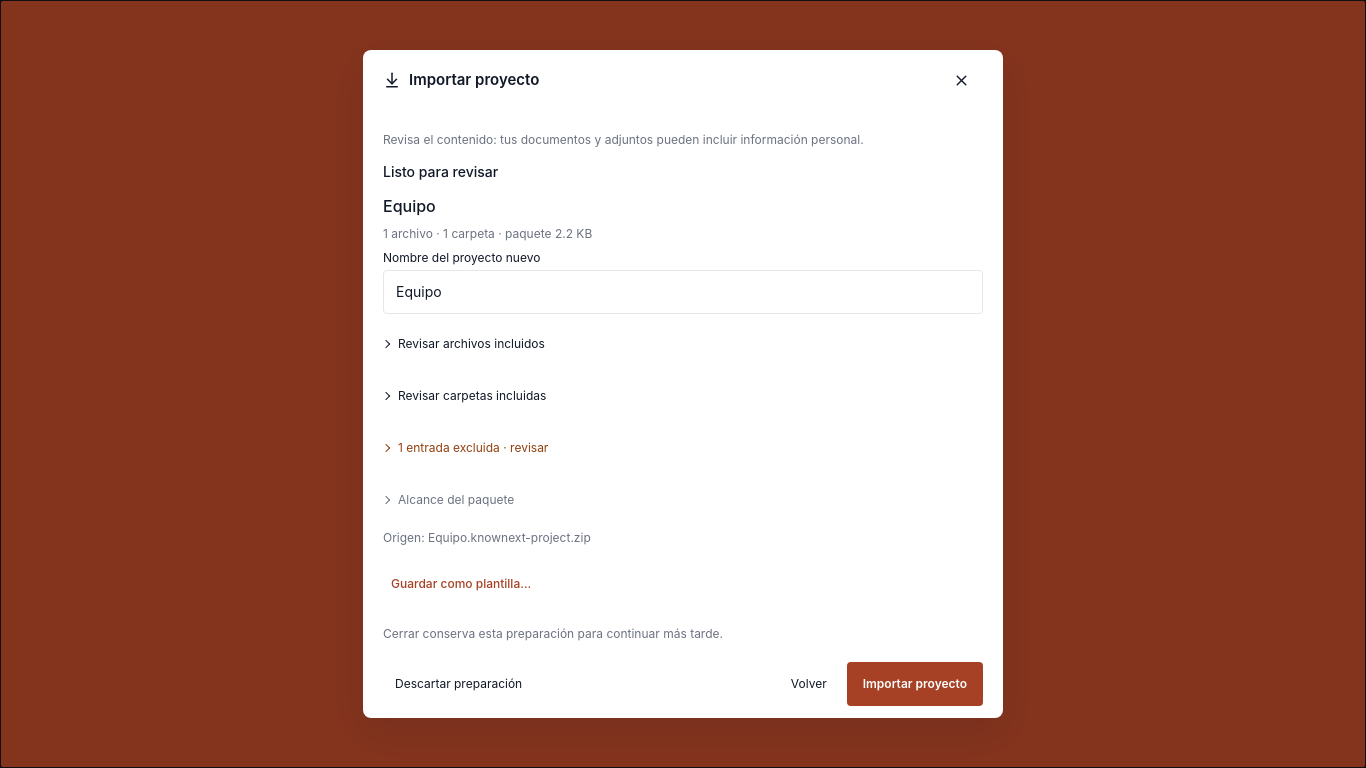
it: adopts only the expected backup recovery even when another transfer is listed first
This screenshot has width=1366, height=768.
Expected: the field labelled "Nombre del proyecto nuevo" holds "Equipo", [383,270,983,314]
Click the button "Importar proyecto" at (915, 684), box [847,662,983,706]
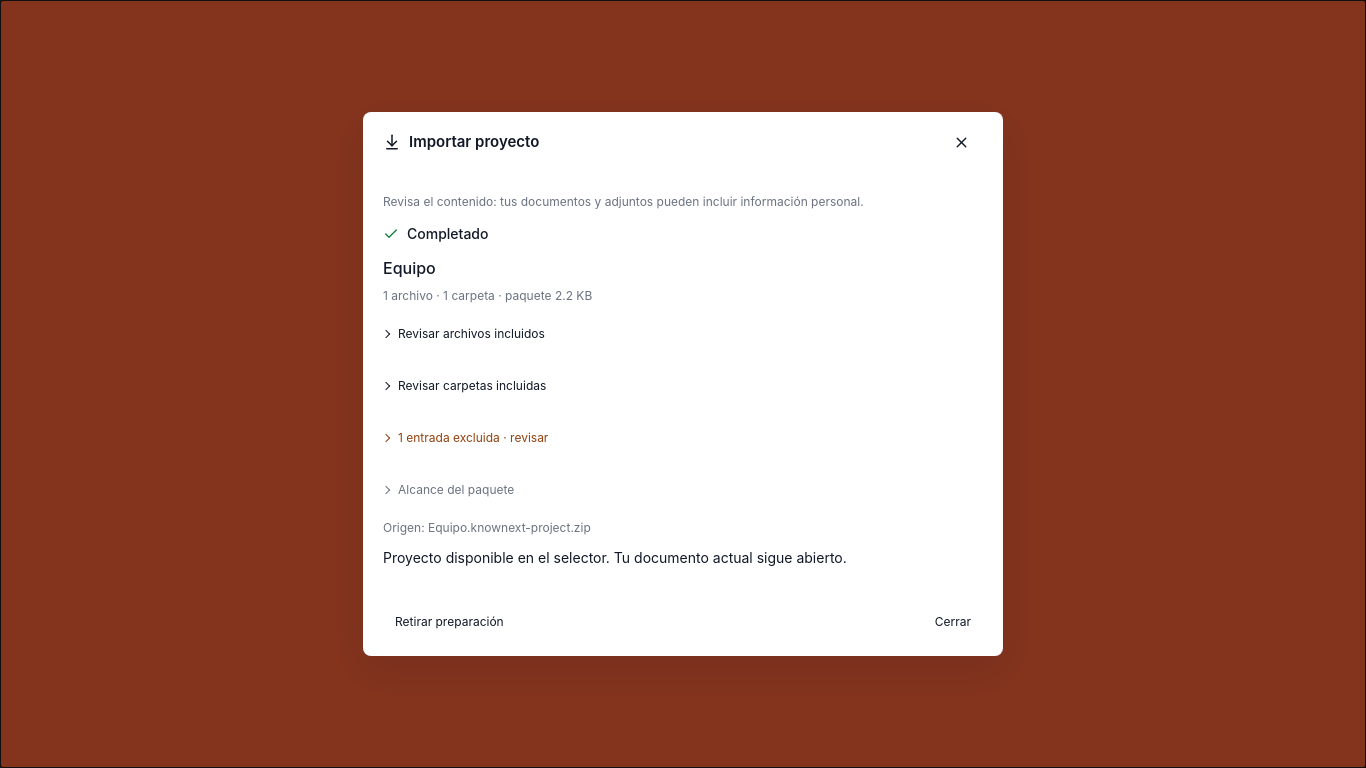
Expected: the text "Tu documento actual sigue abierto" is shown, [383,549,847,566]
